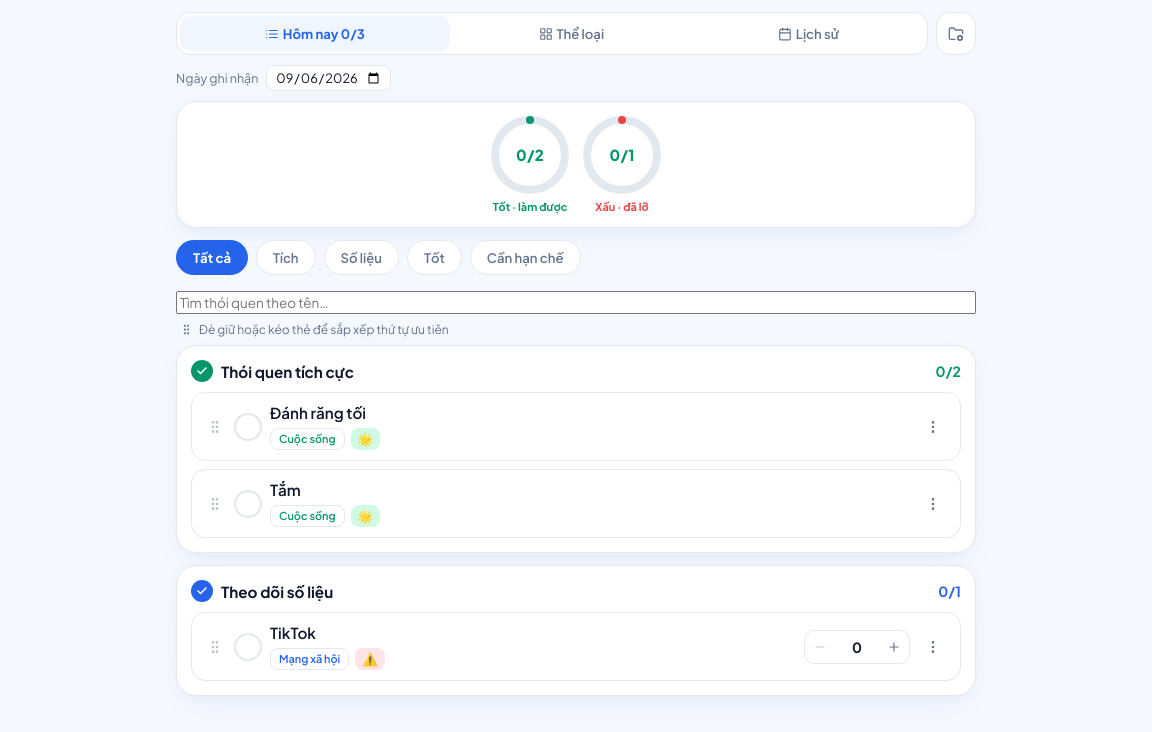
Test case: HabitsPage › cho đổi ngày ghi nhận, mặc định là hôm nay
Expected: the text "Tắm" is shown, [270,480,301,499]
Type "2026-08-01" into the date field labelled "Ngày ghi nhận". click: (329, 78)
box: [266,65,391,91]
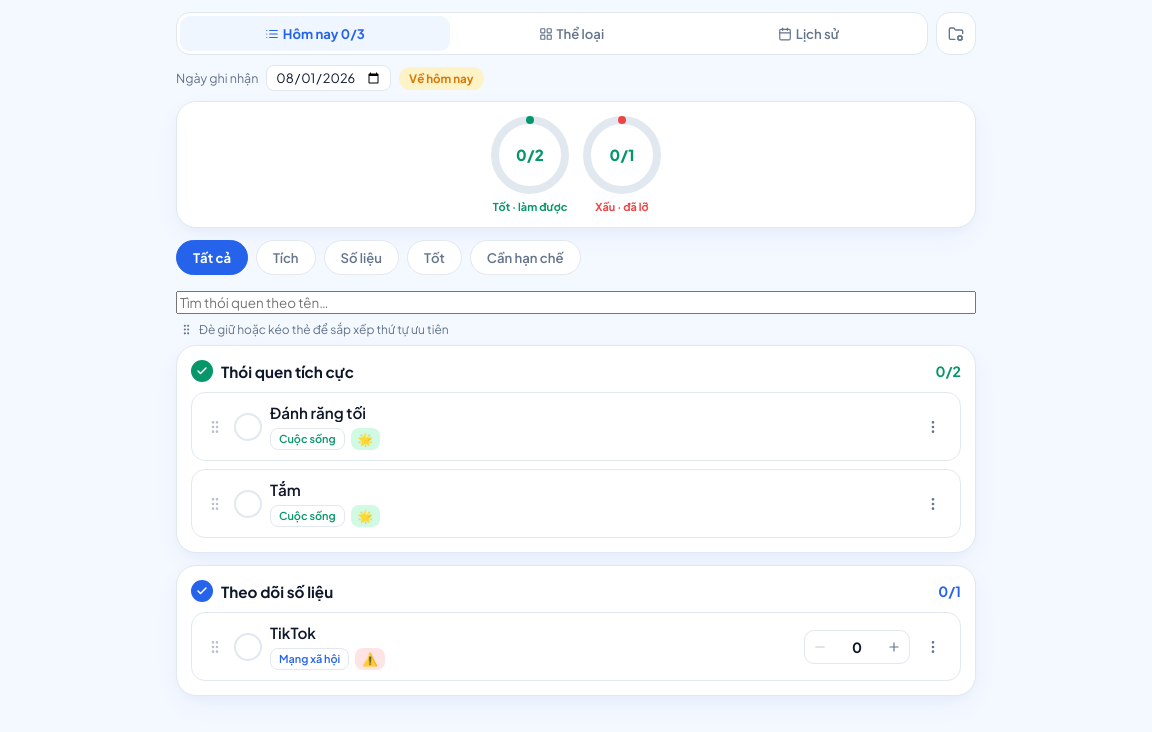
Result: the button "Về hôm nay" is shown at [399,66,484,90]
